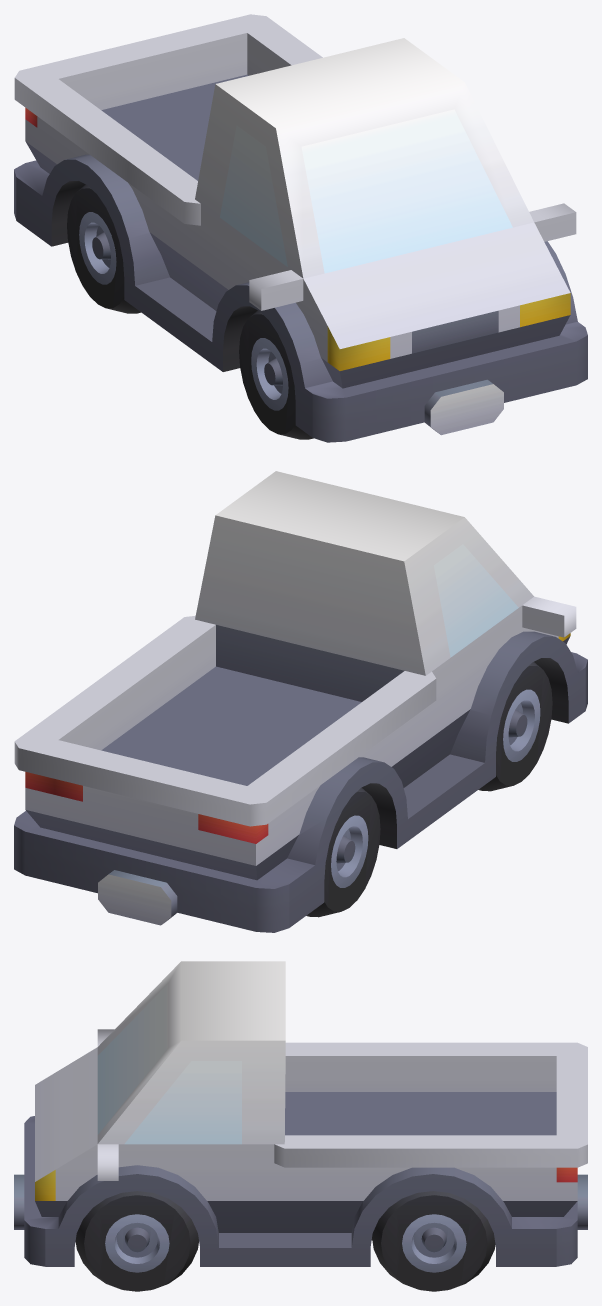
The model's file is k-car-truck-flat.glb.
The picture shows the model from 3 angles, top to bottom: view 1: azimuth 30°, elevation 25°; view 2: azimuth 150°, elevation 25°; view 3: azimuth 270°, elevation 25°; orthographic projection. The views are drawn at different scales.
Parts seen in each view (by area): view 1: body, wheel-back-right, wheel-front-right; view 2: body, wheel-front-right, wheel-back-right; view 3: body, wheel-front-left, wheel-back-left.
Boxes of the visible parts, x1,y1,x2,y2 form: body: (14,14,587,442); wheel-back-right: (67,184,140,313); wheel-front-right: (239,310,313,439); body: (14,471,587,932); wheel-front-right: (478,662,552,791); wheel-back-right: (306,787,380,917); body: (14,961,587,1266); wheel-front-left: (75,1191,198,1291); wheel-back-left: (372,1191,495,1291).
Bounding box in the file's own units: 1.5 × 1.3 × 2.75.
1 material, 1 textured.
